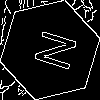N: (25, 25, 78, 73)
